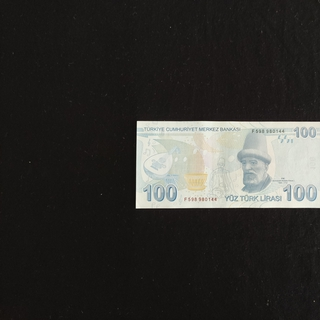100TLBack: (135, 120, 320, 209)
